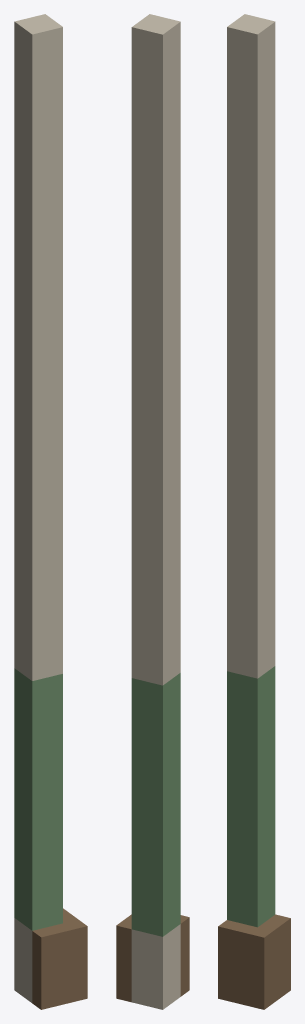
The model's file is Mesh_WallBaseboard2Colors_E6.fbx.
3 views of the same model, side by side, from view 1: azimuth 30°, elevation 25°; view 2: azimuth 150°, elevation 25°; view 3: azimuth 330°, elevation 25° (orthographic).
Parts seen in each view (by area): view 1: Mesh_WallBaseboard2Colors_E6; view 2: Mesh_WallBaseboard2Colors_E6; view 3: Mesh_WallBaseboard2Colors_E6.
Boxes of the visible parts, <box> form: Mesh_WallBaseboard2Colors_E6: <box>14,14,87,1009</box>; Mesh_WallBaseboard2Colors_E6: <box>116,14,189,1009</box>; Mesh_WallBaseboard2Colors_E6: <box>218,14,290,1009</box>.
Bounding box in the file's own units: 0.15 × 3 × 0.15.
